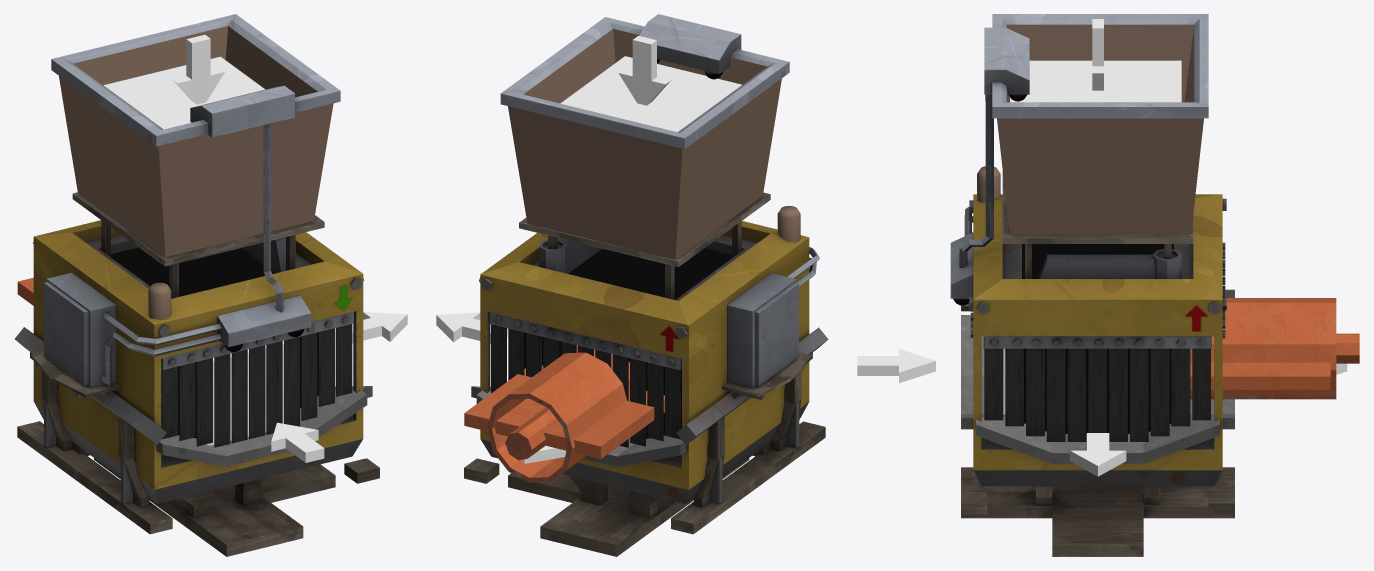
The model's file is ConveyorSorter.glb.
The picture shows the model from 3 angles, left to right: view 1: azimuth 30°, elevation 25°; view 2: azimuth 150°, elevation 25°; view 3: azimuth 270°, elevation 25°; orthographic projection. The views are drawn at different scales.
Visible parts, largest first — view 1: ConveyorSorter, FilterTrigger, ghostarrow (3), ghostarrow, ghostarrow (2), SorterTrigger; view 2: ConveyorSorter, CopperPlate_Polished (1), FilterTrigger, CopperPlate_Polished, ghostarrow (3), CopperPlate_Polished (2), ghostarrow (2); view 3: ConveyorSorter, CopperPlate_Polished (1), FilterTrigger, CopperPlate_Polished, ghostarrow, ghostarrow (2), ghostarrow (3), CopperPlate_Polished (2).
Boxes of the visible parts, bbox=[...] form: ConveyorSorter: bbox=[15, 14, 379, 556]; FilterTrigger: bbox=[103, 56, 265, 129]; ghostarrow (3): bbox=[172, 34, 224, 104]; ghostarrow: bbox=[271, 422, 324, 462]; ghostarrow (2): bbox=[352, 312, 407, 343]; SorterTrigger: bbox=[206, 340, 283, 445]; ConveyorSorter: bbox=[464, 14, 828, 556]; CopperPlate_Polished (1): bbox=[487, 345, 629, 482]; FilterTrigger: bbox=[560, 56, 741, 132]; CopperPlate_Polished: bbox=[464, 365, 664, 458]; ghostarrow (3): bbox=[618, 36, 670, 105]; CopperPlate_Polished (2): bbox=[505, 407, 558, 460]; ghostarrow (2): bbox=[436, 312, 507, 343]; ConveyorSorter: bbox=[950, 14, 1234, 556]; CopperPlate_Polished (1): bbox=[1190, 298, 1336, 399]; FilterTrigger: bbox=[1010, 60, 1181, 102]; CopperPlate_Polished: bbox=[1190, 362, 1330, 389]; ghostarrow: bbox=[857, 349, 935, 383]; ghostarrow (2): bbox=[1069, 433, 1126, 476]; ghostarrow (3): bbox=[1092, 19, 1103, 90]; CopperPlate_Polished (2): bbox=[1336, 333, 1359, 363].
Size of the model in its own units: 1.55 by 1.91 by 1.83.
Materials: 8 (4 with a texture image).
